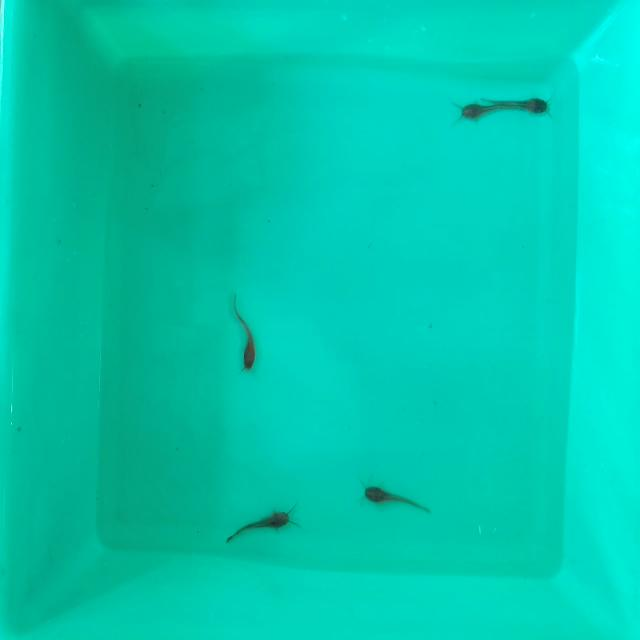lele: (365, 478, 433, 516), (233, 297, 261, 370), (225, 514, 268, 543), (499, 94, 553, 116), (457, 99, 504, 118)
